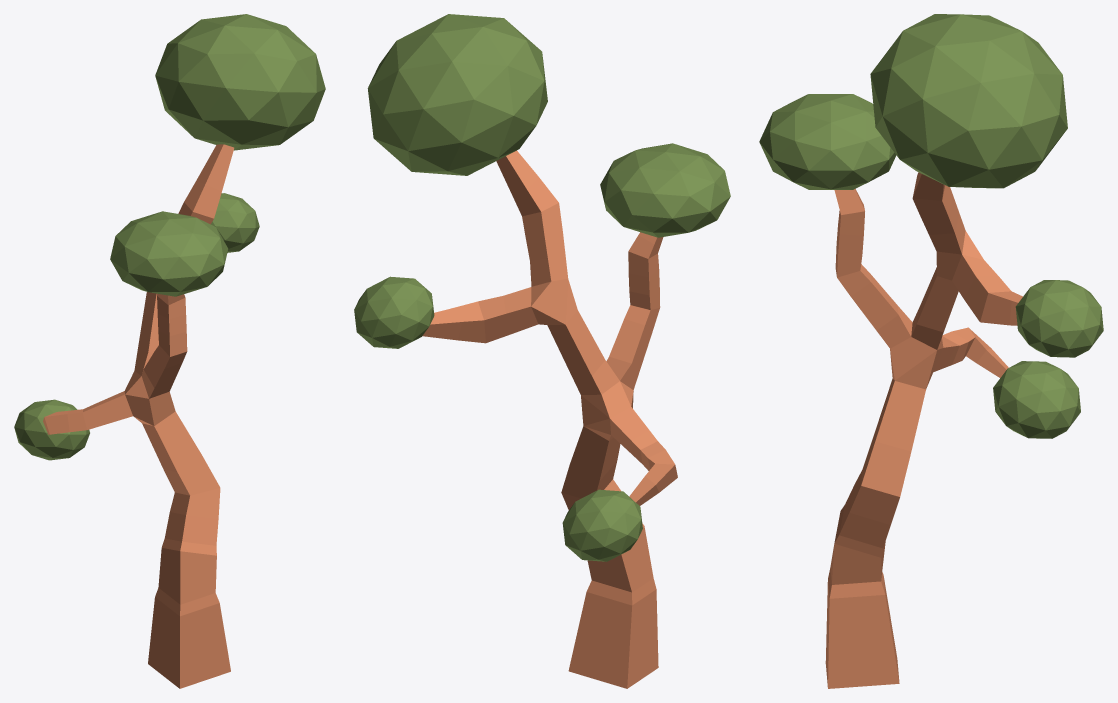
File: tree.fbx
3 renders of one model, left to right at view 1: azimuth 30°, elevation 25°; view 2: azimuth 150°, elevation 25°; view 3: azimuth 270°, elevation 25°, orthographic. The views are drawn at different scales.
Parts seen in each view (by area): view 1: Tree; view 2: Tree; view 3: Tree.
Part boxes in pixels (left/top/right/bottom): Tree: left=14, top=14, right=325, bottom=688; Tree: left=354, top=14, right=730, bottom=688; Tree: left=759, top=14, right=1103, bottom=688.
Size of the model in its own units: 148 by 315 by 139.
